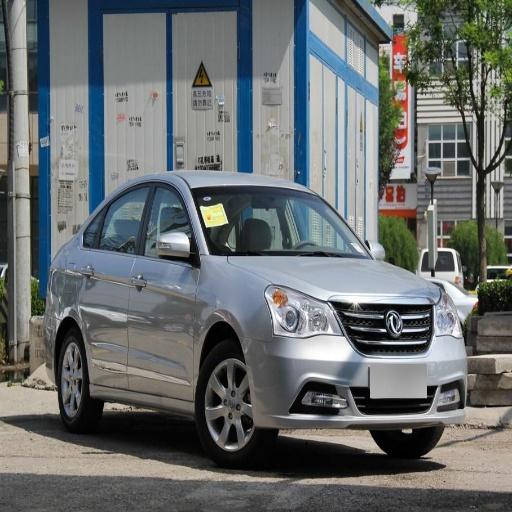front_bumper: (247, 293, 465, 430)
front_right_door: (128, 180, 199, 398)
front_right_light: (265, 285, 339, 337)
hood: (248, 257, 441, 302)
